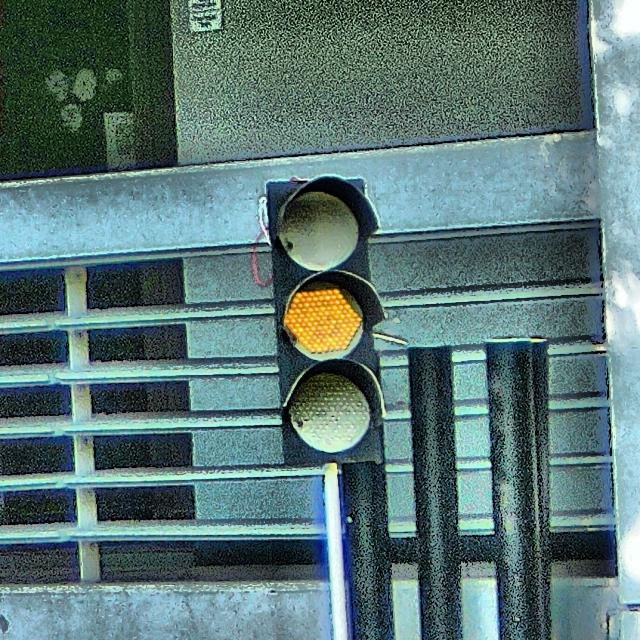yellow: (268, 179, 387, 465)
